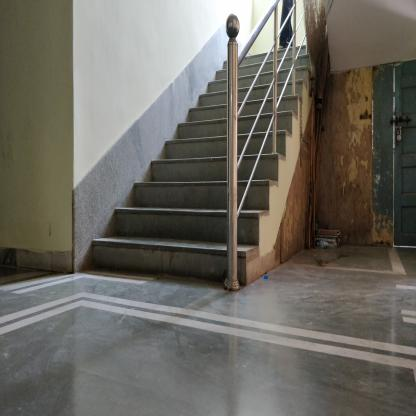stairs: (178, 122, 225, 293)
